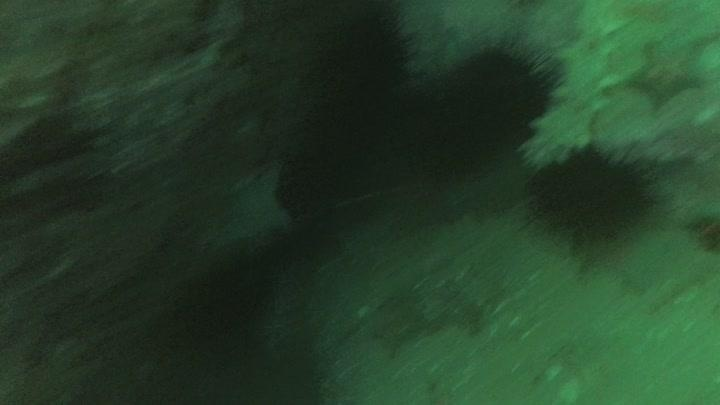echinus: (217, 2, 417, 121), (521, 139, 659, 257), (438, 36, 560, 151)
holothurian: (517, 11, 622, 173)
starfish: (624, 22, 718, 110)
